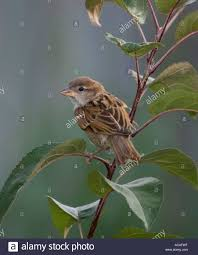hsparrow: (55, 73, 145, 162)
